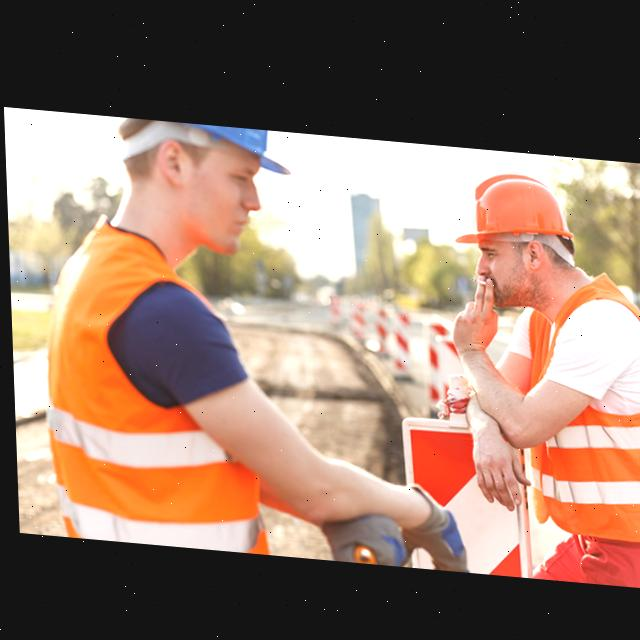cigarette: (470, 271, 484, 277)
